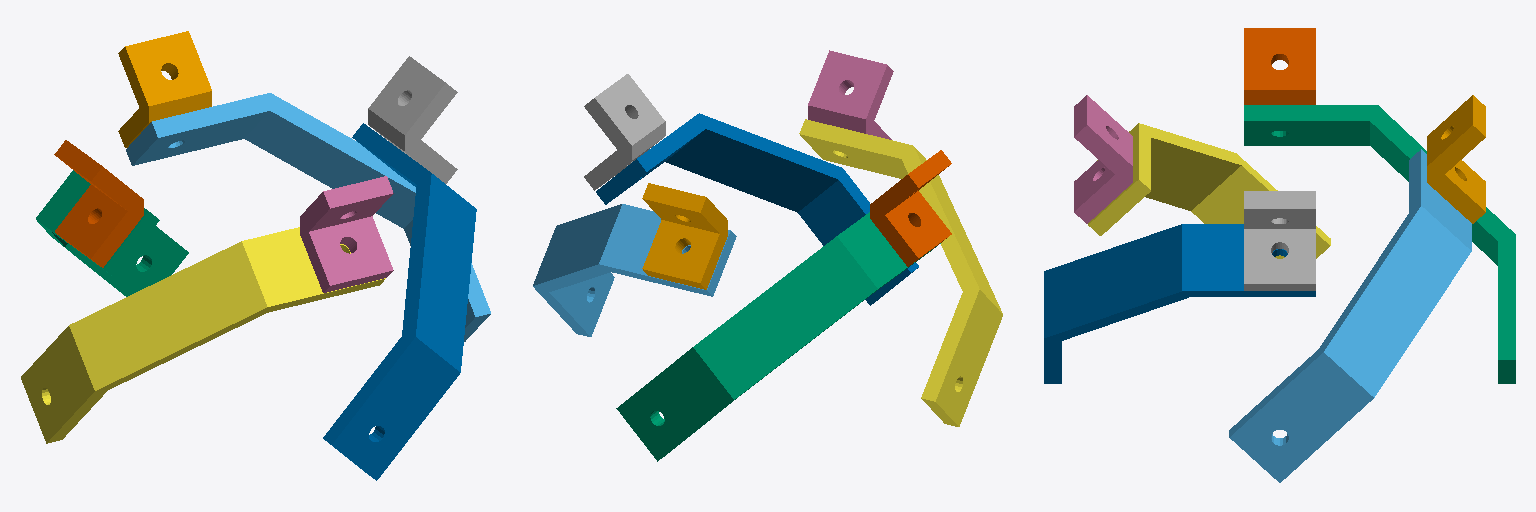
robot.urdf — itp2:
<?xml version="1.0" ?>
<robot name="itp2">
<mujoco>
  <compiler balanceinertia="true" discardvisual="false" meshdir="meshes" fusestatic="false"/>
</mujoco>
<link name="base_link">
  <inertial>
    <origin xyz="-4.28110505425844e-17 9.275727617559952e-17 0.0" rpy="0 0 0"/>
    <mass value="0.31269088172467374"/>
    <inertia ixx="0.0005627556700949108" iyy="0.0005627556700949188" izz="0.001104459216574521" ixy="1.0709300113376218e-18" iyz="-2.2311041902867143e-20" ixz="0.0"/>
  </inertial>
  <visual>
    <origin xyz="0 0 0" rpy="0 0 0"/>
    <geometry>
      <mesh filename="meshes/base_link.stl" scale="0.001 0.001 0.001"/>
    </geometry>
  </visual>
  <collision>
    <origin xyz="0 0 0" rpy="0 0 0"/>
    <geometry>
      <mesh filename="meshes/base_link.stl" scale="0.001 0.001 0.001"/>
    </geometry>
  </collision>
</link>

<link name="l_link_down1">
  <inertial>
    <origin xyz="-0.020733135994442133 -0.02801688872157571 0.028016888721575074" rpy="0 0 0"/>
    <mass value="0.09643048480330162"/>
    <inertia ixx="5.47588545979649e-05" iyy="7.887496262357974e-05" izz="7.887496262357972e-05" ixy="-3.146432362828854e-05" iyz="2.4116108025676374e-05" ixz="3.1464323628288524e-05"/>
  </inertial>
  <visual>
    <origin xyz="-0.060355 0.0 -0.0" rpy="0 0 0"/>
    <geometry>
      <mesh filename="meshes/l_link_down1.stl" scale="0.001 0.001 0.001"/>
    </geometry>

  </visual>
  <collision>
    <origin xyz="-0.060355 0.0 -0.0" rpy="0 0 0"/>
    <geometry>
      <mesh filename="meshes/l_link_down1.stl" scale="0.001 0.001 0.001"/>
    </geometry>
  </collision>
</link>

<link name="l_link_down2">
  <inertial>
    <origin xyz="0.02801688872157509 -0.020733135994442146 0.02801688872157506" rpy="0 0 0"/>
    <mass value="0.09643048480330162"/>
    <inertia ixx="7.887496262357947e-05" iyy="5.475885459796503e-05" izz="7.887496262357947e-05" ixy="3.14643236282885e-05" iyz="3.146432362828855e-05" ixz="-2.411610802567636e-05"/>
  </inertial>
  <visual>
    <origin xyz="-0.0 -0.060355 -0.0" rpy="0 0 0"/>
    <geometry>
      <mesh filename="meshes/l_link_down2.stl" scale="0.001 0.001 0.001"/>
    </geometry>

  </visual>
  <collision>
    <origin xyz="-0.0 -0.060355 -0.0" rpy="0 0 0"/>
    <geometry>
      <mesh filename="meshes/l_link_down2.stl" scale="0.001 0.001 0.001"/>
    </geometry>
  </collision>
</link>

<link name="l_link_down3">
  <inertial>
    <origin xyz="0.020733135994442146 0.028016888721575716 0.028016888721575074" rpy="0 0 0"/>
    <mass value="0.09643048480330162"/>
    <inertia ixx="5.475885459796484e-05" iyy="7.887496262357982e-05" izz="7.887496262357977e-05" ixy="-3.146432362828855e-05" iyz="-2.4116108025676346e-05" ixz="-3.14643236282885e-05"/>
  </inertial>
  <visual>
    <origin xyz="0.060355 -0.0 -0.0" rpy="0 0 0"/>
    <geometry>
      <mesh filename="meshes/l_link_down3.stl" scale="0.001 0.001 0.001"/>
    </geometry>

  </visual>
  <collision>
    <origin xyz="0.060355 -0.0 -0.0" rpy="0 0 0"/>
    <geometry>
      <mesh filename="meshes/l_link_down3.stl" scale="0.001 0.001 0.001"/>
    </geometry>
  </collision>
</link>

<link name="l_link_down4">
  <inertial>
    <origin xyz="-0.028016888721575723 0.020733135994442146 0.028016888721575074" rpy="0 0 0"/>
    <mass value="0.09643048480330162"/>
    <inertia ixx="7.887496262357982e-05" iyy="5.47588545979649e-05" izz="7.887496262357972e-05" ixy="3.146432362828855e-05" iyz="-3.14643236282885e-05" ixz="2.4116108025676346e-05"/>
  </inertial>
  <visual>
    <origin xyz="0.0 0.060355 -0.0" rpy="0 0 0"/>
    <geometry>
      <mesh filename="meshes/l_link_down4.stl" scale="0.001 0.001 0.001"/>
    </geometry>

  </visual>
  <collision>
    <origin xyz="0.0 0.060355 -0.0" rpy="0 0 0"/>
    <geometry>
      <mesh filename="meshes/l_link_down4.stl" scale="0.001 0.001 0.001"/>
    </geometry>
  </collision>
</link>

<link name="v_link1">
  <inertial>
    <origin xyz="0.04915865567859516 7.354447085013556e-15 -0.010754999999999994" rpy="0 0 0"/>
    <mass value="0.028819963707284894"/>
    <inertia ixx="2.8657005996045152e-06" iyy="2.33879319481135e-06" izz="1.4974559265121772e-06" ixy="1.0962483466765328e-19" iyz="0.0" ixz="1.3552527156068805e-20"/>
  </inertial>
  <visual>
    <origin xyz="-0.0 0.0 -0.065755" rpy="0 0 0"/>
    <geometry>
      <mesh filename="meshes/v_link1.stl" scale="0.001 0.001 0.001"/>
    </geometry>

  </visual>
  <collision>
    <origin xyz="-0.0 0.0 -0.065755" rpy="0 0 0"/>
    <geometry>
      <mesh filename="meshes/v_link1.stl" scale="0.001 0.001 0.001"/>
    </geometry>
  </collision>
</link>

<link name="v_link2">
  <inertial>
    <origin xyz="-7.351436985497198e-15 0.04915865567859516 -0.010754999999999994" rpy="0 0 0"/>
    <mass value="0.028819963707284894"/>
    <inertia ixx="2.33879319481135e-06" iyy="2.8657005996045152e-06" izz="1.4974559265121772e-06" ixy="-1.0959257089431901e-19" iyz="1.3552527156068805e-20" ixz="-1.5407439555097887e-33"/>
  </inertial>
  <visual>
    <origin xyz="-0.0 -0.0 -0.065755" rpy="0 0 0"/>
    <geometry>
      <mesh filename="meshes/v_link2.stl" scale="0.001 0.001 0.001"/>
    </geometry>

  </visual>
  <collision>
    <origin xyz="-0.0 -0.0 -0.065755" rpy="0 0 0"/>
    <geometry>
      <mesh filename="meshes/v_link2.stl" scale="0.001 0.001 0.001"/>
    </geometry>
  </collision>
</link>

<link name="v_link3">
  <inertial>
    <origin xyz="-0.04915865567859516 -7.348426885980838e-15 -0.010754999999999994" rpy="0 0 0"/>
    <mass value="0.028819963707284894"/>
    <inertia ixx="2.8657005996045152e-06" iyy="2.33879319481135e-06" izz="1.4974559265121772e-06" ixy="1.0956030712098166e-19" iyz="0.0" ixz="-1.3552527156068805e-20"/>
  </inertial>
  <visual>
    <origin xyz="0.0 -0.0 -0.065755" rpy="0 0 0"/>
    <geometry>
      <mesh filename="meshes/v_link3.stl" scale="0.001 0.001 0.001"/>
    </geometry>

  </visual>
  <collision>
    <origin xyz="0.0 -0.0 -0.065755" rpy="0 0 0"/>
    <geometry>
      <mesh filename="meshes/v_link3.stl" scale="0.001 0.001 0.001"/>
    </geometry>
  </collision>
</link>

<link name="v_link4">
  <inertial>
    <origin xyz="7.345416786464478e-15 -0.04915865567859516 -0.010754999999999994" rpy="0 0 0"/>
    <mass value="0.028819963707284894"/>
    <inertia ixx="2.33879319481135e-06" iyy="2.8657005996045152e-06" izz="1.4974559265121772e-06" ixy="-1.0952804334764277e-19" iyz="-1.3552527156068805e-20" ixz="-1.5407439555097887e-33"/>
  </inertial>
  <visual>
    <origin xyz="-0.0 0.0 -0.065755" rpy="0 0 0"/>
    <geometry>
      <mesh filename="meshes/v_link4.stl" scale="0.001 0.001 0.001"/>
    </geometry>

  </visual>
  <collision>
    <origin xyz="-0.0 0.0 -0.065755" rpy="0 0 0"/>
    <geometry>
      <mesh filename="meshes/v_link4.stl" scale="0.001 0.001 0.001"/>
    </geometry>
  </collision>
</link>

<joint name="Revolute_6" type="continuous">
  <origin xyz="0.060355 0.0 0.0" rpy="0 0 0"/>
  <parent link="base_link"/>
  <child link="l_link_down1"/>
  <axis xyz="-1.0 0.0 0.0"/>
</joint>
<transmission name="Revolute_6_tran">
  <type>transmission_interface/SimpleTransmission</type>
  <joint name="Revolute_6">
    <hardwareInterface>PositionJointInterface</hardwareInterface>
  </joint>
  <actuator name="Revolute_6_actr">
    <hardwareInterface>PositionJointInterface</hardwareInterface>
    <mechanicalReduction>1</mechanicalReduction>
  </actuator>
</transmission>

<joint name="Revolute_7" type="continuous">
  <origin xyz="0.0 0.060355 0.0" rpy="0 0 0"/>
  <parent link="base_link"/>
  <child link="l_link_down2"/>
  <axis xyz="-0.0 -1.0 0.0"/>
</joint>
<transmission name="Revolute_7_tran">
  <type>transmission_interface/SimpleTransmission</type>
  <joint name="Revolute_7">
    <hardwareInterface>PositionJointInterface</hardwareInterface>
  </joint>
  <actuator name="Revolute_7_actr">
    <hardwareInterface>PositionJointInterface</hardwareInterface>
    <mechanicalReduction>1</mechanicalReduction>
  </actuator>
</transmission>

<joint name="Revolute_8" type="continuous">
  <origin xyz="-0.060355 0.0 0.0" rpy="0 0 0"/>
  <parent link="base_link"/>
  <child link="l_link_down3"/>
  <axis xyz="1.0 -0.0 0.0"/>
</joint>
<transmission name="Revolute_8_tran">
  <type>transmission_interface/SimpleTransmission</type>
  <joint name="Revolute_8">
    <hardwareInterface>PositionJointInterface</hardwareInterface>
  </joint>
  <actuator name="Revolute_8_actr">
    <hardwareInterface>PositionJointInterface</hardwareInterface>
    <mechanicalReduction>1</mechanicalReduction>
  </actuator>
</transmission>

<joint name="Revolute_9" type="continuous">
  <origin xyz="0.0 -0.060355 0.0" rpy="0 0 0"/>
  <parent link="base_link"/>
  <child link="l_link_down4"/>
  <axis xyz="0.0 1.0 0.0"/>
</joint>
<transmission name="Revolute_9_tran">
  <type>transmission_interface/SimpleTransmission</type>
  <joint name="Revolute_9">
    <hardwareInterface>PositionJointInterface</hardwareInterface>
  </joint>
  <actuator name="Revolute_9_actr">
    <hardwareInterface>PositionJointInterface</hardwareInterface>
    <mechanicalReduction>1</mechanicalReduction>
  </actuator>
</transmission>

<joint name="Revolute_10" type="continuous">
  <origin xyz="0.0 -0.060355 0.065755" rpy="0 0 0"/>
  <parent link="l_link_down2"/>
  <child link="v_link1"/>
  <axis xyz="-0.707107 0.0 -0.707107"/>
</joint>
<transmission name="Revolute_10_tran">
  <type>transmission_interface/SimpleTransmission</type>
  <joint name="Revolute_10">
    <hardwareInterface>PositionJointInterface</hardwareInterface>
  </joint>
  <actuator name="Revolute_10_actr">
    <hardwareInterface>PositionJointInterface</hardwareInterface>
    <mechanicalReduction>1</mechanicalReduction>
  </actuator>
</transmission>

<joint name="Revolute_12" type="continuous">
  <origin xyz="0.060355 0.0 0.065755" rpy="0 0 0"/>
  <parent link="l_link_down3"/>
  <child link="v_link2"/>
  <axis xyz="-0.0 -0.707107 -0.707107"/>
</joint>
<transmission name="Revolute_12_tran">
  <type>transmission_interface/SimpleTransmission</type>
  <joint name="Revolute_12">
    <hardwareInterface>PositionJointInterface</hardwareInterface>
  </joint>
  <actuator name="Revolute_12_actr">
    <hardwareInterface>PositionJointInterface</hardwareInterface>
    <mechanicalReduction>1</mechanicalReduction>
  </actuator>
</transmission>

<joint name="Revolute_14" type="continuous">
  <origin xyz="0.0 0.060355 0.065755" rpy="0 0 0"/>
  <parent link="l_link_down4"/>
  <child link="v_link3"/>
  <axis xyz="0.707107 -0.0 -0.707107"/>
</joint>
<transmission name="Revolute_14_tran">
  <type>transmission_interface/SimpleTransmission</type>
  <joint name="Revolute_14">
    <hardwareInterface>PositionJointInterface</hardwareInterface>
  </joint>
  <actuator name="Revolute_14_actr">
    <hardwareInterface>PositionJointInterface</hardwareInterface>
    <mechanicalReduction>1</mechanicalReduction>
  </actuator>
</transmission>

<joint name="Revolute_16" type="continuous">
  <origin xyz="-0.060355 0.0 0.065755" rpy="0 0 0"/>
  <parent link="l_link_down1"/>
  <child link="v_link4"/>
  <axis xyz="0.0 0.707107 -0.707107"/>
</joint>
<transmission name="Revolute_16_tran">
  <type>transmission_interface/SimpleTransmission</type>
  <joint name="Revolute_16">
    <hardwareInterface>PositionJointInterface</hardwareInterface>
  </joint>
  <actuator name="Revolute_16_actr">
    <hardwareInterface>PositionJointInterface</hardwareInterface>
    <mechanicalReduction>1</mechanicalReduction>
  </actuator>
</transmission>

</robot>

--- What the picture shows (computed from the rendered views, not written in the file) ---
The picture shows the robot from 3 angles, left to right: view 1: azimuth 30°, elevation 25°; view 2: azimuth 150°, elevation 25°; view 3: azimuth 270°, elevation 25°; orthographic projection.
Robot: itp2 — 9 links, 8 joints (8 continuous); root link base_link; default pose: every joint at zero.
Visible links, largest first — view 1: l_link_down3, l_link_down4, l_link_down1, v_link2, v_link4, v_link1, l_link_down2, v_link3; view 2: l_link_down2, l_link_down4, l_link_down3, l_link_down1, v_link4, v_link2, v_link1, v_link3; view 3: l_link_down1, l_link_down4, l_link_down2, l_link_down3, v_link3, v_link1, v_link2, v_link4.
Link boxes in pixels (bbox=[...]): l_link_down3: bbox=[21, 227, 385, 443]; l_link_down4: bbox=[323, 123, 476, 480]; l_link_down1: bbox=[126, 93, 490, 341]; v_link2: bbox=[300, 176, 393, 292]; v_link4: bbox=[118, 31, 211, 147]; v_link1: bbox=[54, 140, 143, 267]; l_link_down2: bbox=[36, 170, 188, 296]; v_link3: bbox=[368, 56, 457, 183]; l_link_down2: bbox=[616, 212, 940, 461]; l_link_down4: bbox=[596, 113, 918, 305]; l_link_down3: bbox=[799, 119, 1002, 426]; l_link_down1: bbox=[533, 204, 736, 336]; v_link4: bbox=[642, 183, 727, 289]; v_link2: bbox=[808, 50, 893, 139]; v_link1: bbox=[870, 150, 951, 266]; v_link3: bbox=[584, 74, 665, 190]; l_link_down1: bbox=[1229, 149, 1471, 482]; l_link_down4: bbox=[1044, 224, 1315, 383]; l_link_down2: bbox=[1244, 105, 1515, 383]; l_link_down3: bbox=[1088, 123, 1330, 258]; v_link3: bbox=[1244, 191, 1315, 290]; v_link1: bbox=[1244, 28, 1315, 104]; v_link2: bbox=[1074, 95, 1132, 223]; v_link4: bbox=[1427, 95, 1485, 223].
Size in the robot's own frame: 0.1315 by 0.1315 by 0.0844 metres.
8 mesh visuals loaded from 9 distinct referenced files (8 binary STL); not drawn: 1 (reference not matched to a file when rendering).